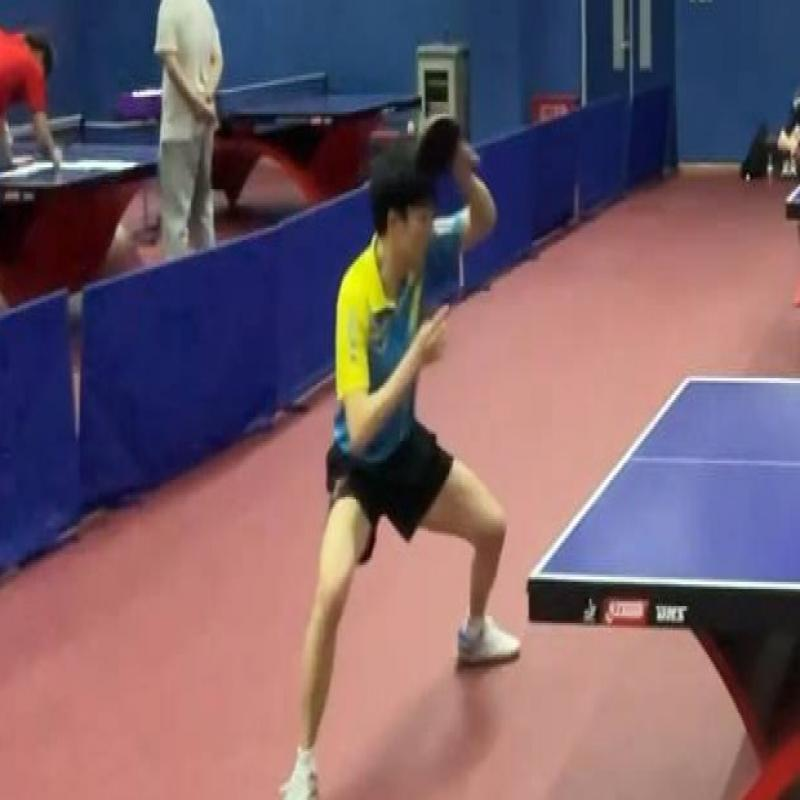bats: (414, 109, 467, 199)
